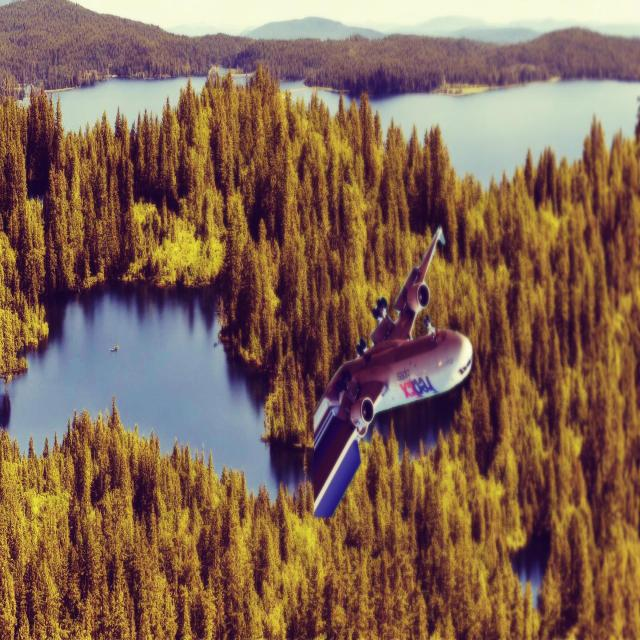airplane: (311, 223, 473, 518)
